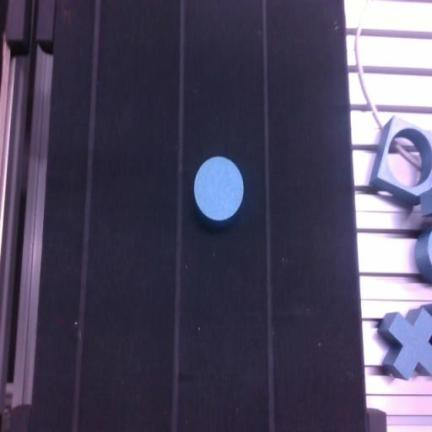cylinder: (194, 156, 243, 222)
